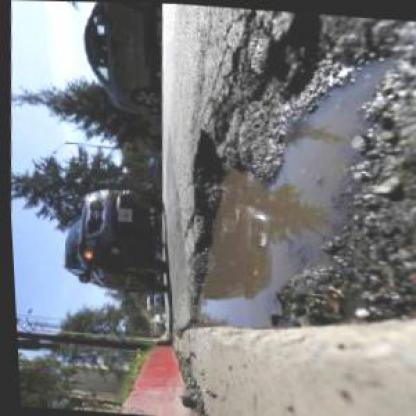pothole: (165, 4, 415, 350)
